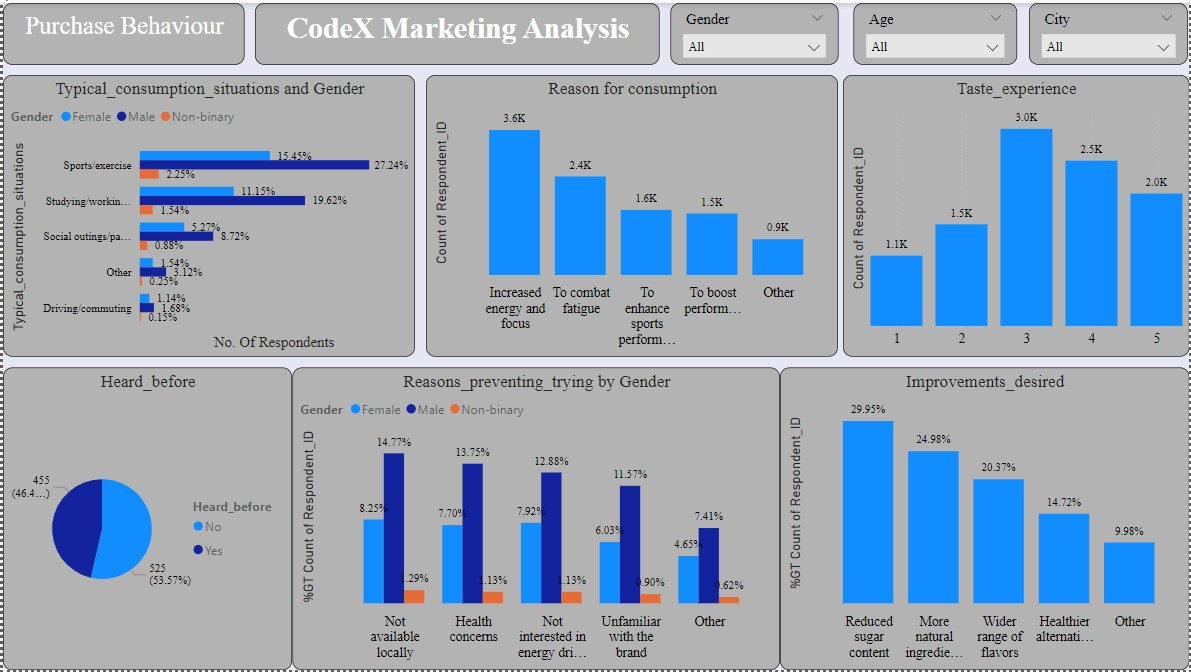

Layout of this report page (visuals, bound fields, positions):
{"tool":"powerbi","page":{"name":"Purchase Behaviour","canvas":[1280,720],"ordinal":7},"visuals":[{"type":"textbox","box":[271.8,0,436.9,66.3],"z":0},{"type":"textbox","box":[0,0,260.5,66.3],"z":1000},{"type":"slicer","fields":{"Values":["dim_repondents.Gender"]},"box":[720,0,181.2,66.3],"z":2000},{"type":"slicer","fields":{"Values":["dim_cities.City"]},"box":[1108.3,0,171.5,66.3],"z":3000},{"type":"slicer","fields":{"Values":["dim_repondents.Age"]},"box":[917.4,0,176.4,66.3],"z":4000},{"type":"clusteredColumnChart","title":"Taste_experience","fields":{"Category":["fact_survey_responses.Taste_experience"],"Y":["CountNonNull(fact_survey_responses.Respondent_ID)"]},"box":[906.1,77.7,373.8,304.2],"z":5000},{"type":"pieChart","title":"Heard_before","fields":{"Category":["fact_survey_responses.Heard_before"],"Y":["CountNonNull(fact_survey_responses.Respondent_ID)"]},"box":[0,393.2,312.3,326.8],"z":6000},{"type":"clusteredColumnChart","title":"Reason for consumption","fields":{"Category":["fact_survey_responses.Consume_reason"],"Y":["CountNonNull(fact_survey_responses.Respondent_ID)"]},"box":[456.3,77.7,444.9,304.2],"z":7000},{"type":"clusteredColumnChart","title":"Improvements_desired","fields":{"Category":["fact_survey_responses.Improvements_desired"],"Y":["Divide(CountNonNull(fact_survey_responses.Respondent_ID), ScopedEval(CountNonNull(fact_survey_responses.Respondent_ID), "]},"box":[838.1,393.2,441.7,326.8],"z":8000},{"type":"clusteredBarChart","title":"Typical_consumption_situations and Gender","fields":{"Category":["fact_survey_responses.Typical_consumption_situations"],"Y":["Divide(CountNonNull(dim_repondents.Respondent_ID), ScopedEval(CountNonNull(dim_repondents.Respondent_ID), []))"],"Series":["dim_repondents.Gender"]},"box":[0,77.7,444.9,304.2],"z":9000},{"type":"clusteredColumnChart","title":"Reasons_preventing_trying by Gender","fields":{"Category":["fact_survey_responses.Reasons_preventing_trying"],"Y":["CountNonNull(fact_survey_responses.Respondent_ID)"],"Series":["dim_repondents.Gender"]},"box":[312.3,393.2,525.8,326.8],"z":10000}]}

Visuals, with their boxes in screenshot pixels (x1, y1, x2, y2), scaled from the page's 1280x720 canvas onto the 1191x672 screenshot:
textbox: <box>253,0,659,62</box>
textbox: <box>0,0,242,62</box>
slicer - dim_repondents.Gender: <box>670,0,839,62</box>
slicer - dim_cities.City: <box>1031,0,1190,62</box>
slicer - dim_repondents.Age: <box>854,0,1018,62</box>
"Taste_experience" clusteredColumnChart: <box>843,73,1190,356</box>
"Heard_before" pieChart: <box>0,367,291,671</box>
"Reason for consumption" clusteredColumnChart: <box>425,73,839,356</box>
"Improvements_desired" clusteredColumnChart: <box>780,367,1190,671</box>
"Typical_consumption_situations and Gender" clusteredBarChart: <box>0,73,414,356</box>
"Reasons_preventing_trying by Gender" clusteredColumnChart: <box>291,367,780,671</box>
